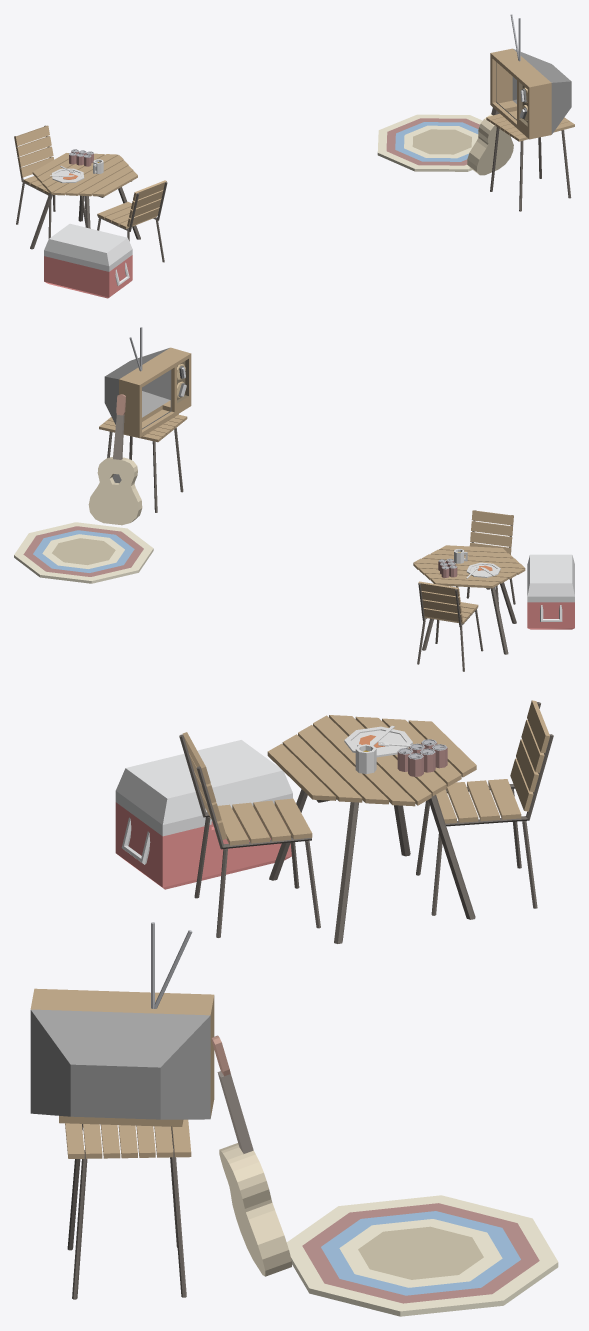
File: Stuff.dae
The picture shows the model from 3 angles, top to bottom: view 1: azimuth 30°, elevation 25°; view 2: azimuth 150°, elevation 25°; view 3: azimuth 270°, elevation 25°; orthographic projection. The views are drawn at different scales.
Parts seen in each view (by area): view 1: Stuff; view 2: Stuff; view 3: Stuff.
Boxes of the visible parts, x1=… form: Stuff: x1=14, y1=14, x2=574, y2=298; Stuff: x1=14, y1=327, x2=574, y2=671; Stuff: x1=30, y1=700, x2=558, y2=1316.
Size of the model in its own units: 3.05 by 1.39 by 1.
